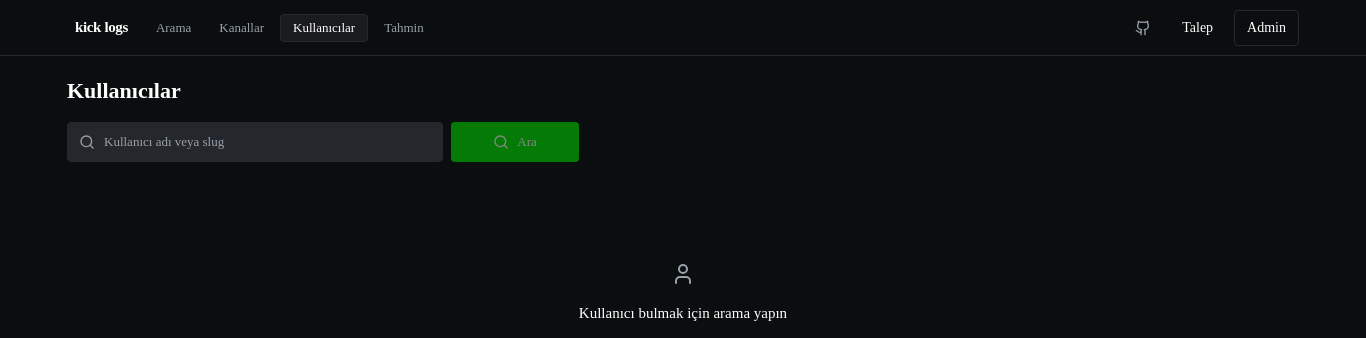
Test: users directory interaction › shows a recoverable first-page error and clears it after resubmit
In the search field: (255, 142) [67, 122, 443, 162], type "alpha"
Then press Enter
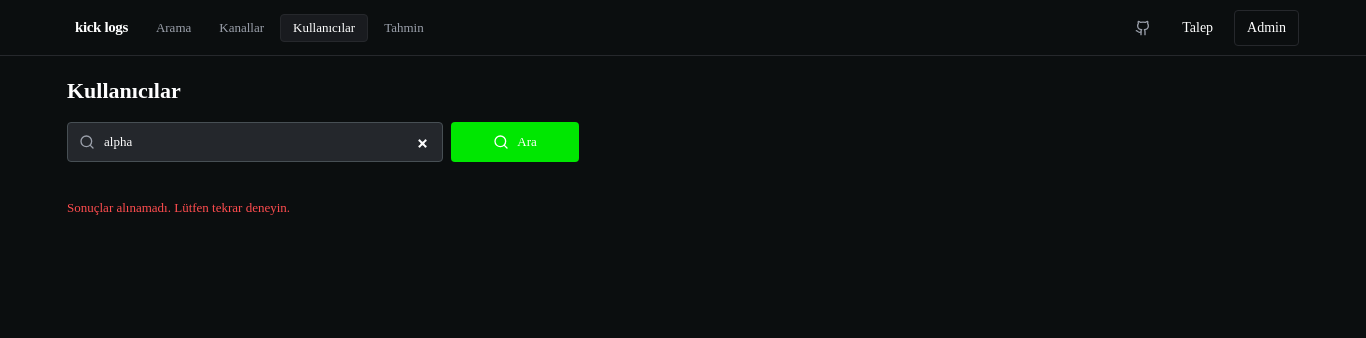
Result: the message shows "Sonuçlar alınamadı" at [67, 200, 290, 215]
Click the button "Ara": click(515, 142) [451, 122, 579, 162]
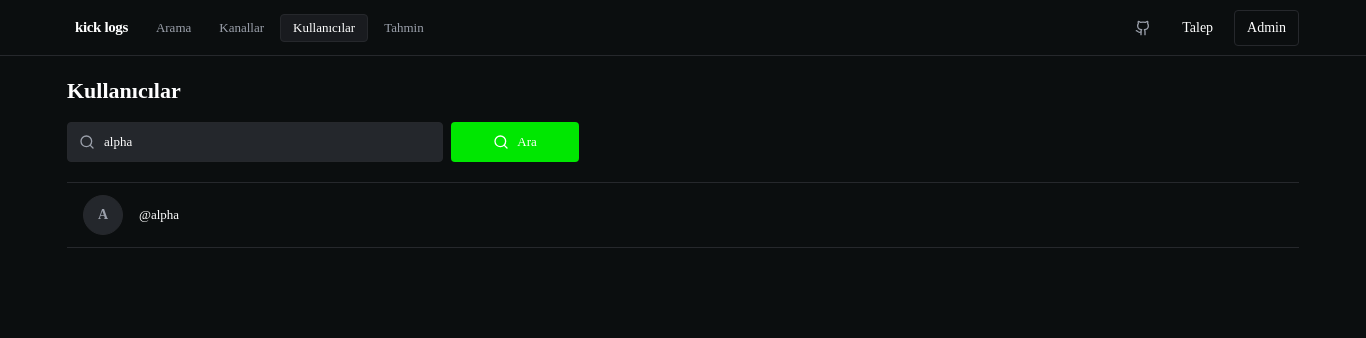
Result: the link "A @alpha" is shown at [83, 195, 179, 235]
Result: the message "Sonuçlar alınamadı. Lütfen tekrar deneyin." is gone
